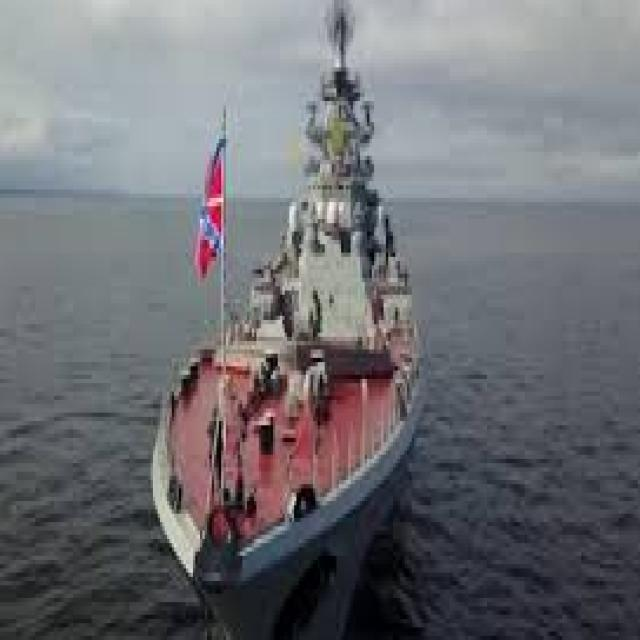navalvessels: (156, 25, 442, 640)
